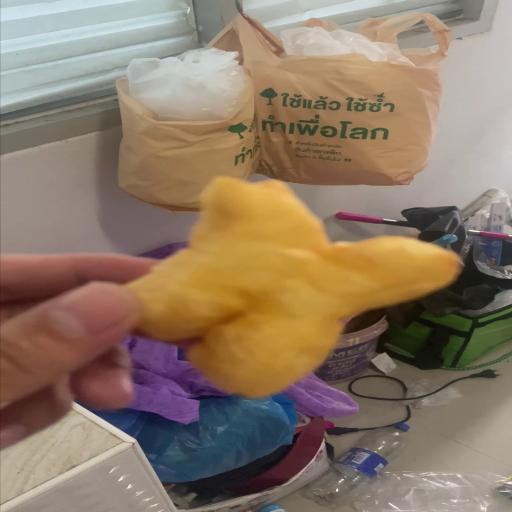street_golden_good: (132, 176, 460, 397)
